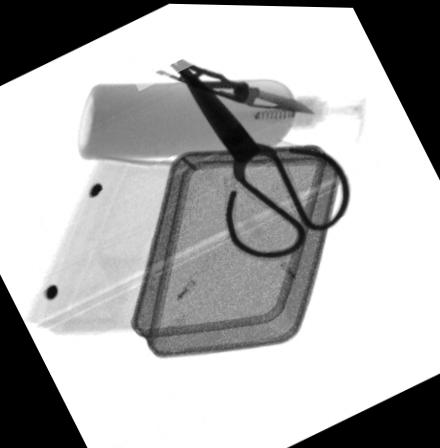Knife: (152, 56, 314, 112)
Scissors: (175, 58, 350, 258)
